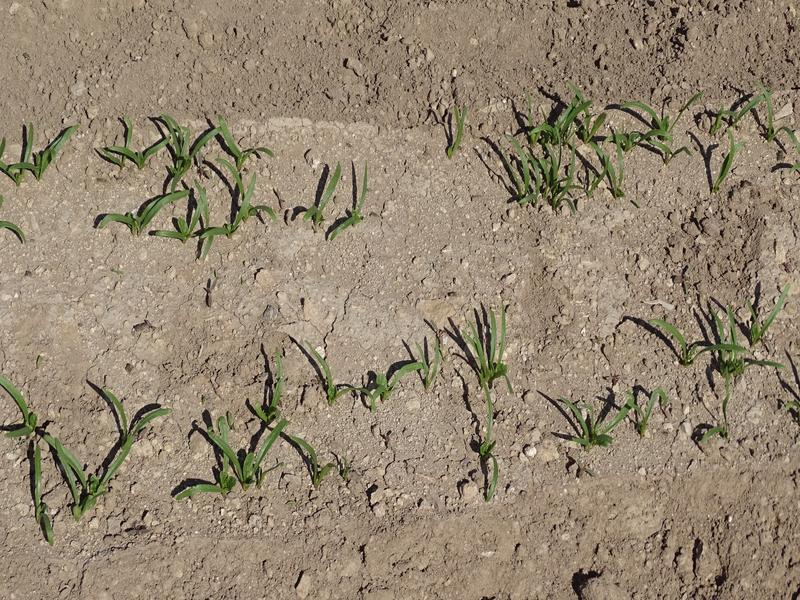Espinaca: (93, 112, 279, 242), (4, 387, 164, 523), (501, 101, 686, 194), (661, 282, 782, 380), (244, 342, 421, 408), (186, 416, 292, 494), (699, 101, 800, 179), (436, 305, 514, 387), (296, 169, 371, 241), (561, 387, 626, 453), (8, 117, 73, 182), (478, 396, 505, 505), (443, 104, 473, 152), (640, 385, 667, 434)
